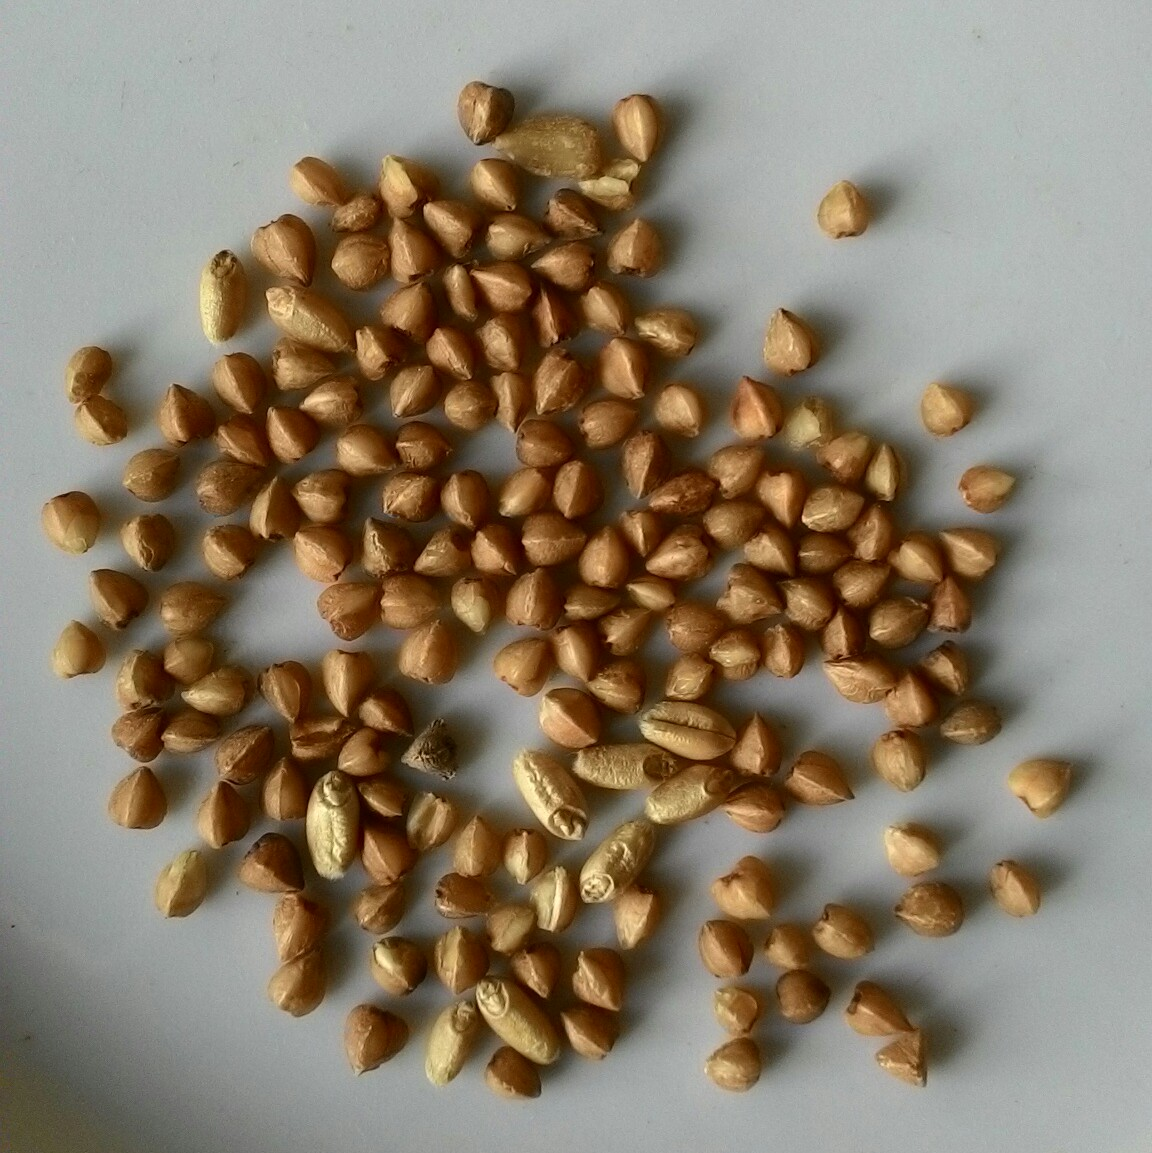semka: (482, 101, 611, 186)
wheat: (468, 969, 570, 1076), (507, 741, 597, 853), (260, 274, 364, 367), (639, 754, 743, 840), (412, 991, 493, 1098), (297, 763, 367, 886), (188, 236, 257, 348), (639, 686, 738, 760), (578, 815, 658, 905), (570, 738, 680, 793)
